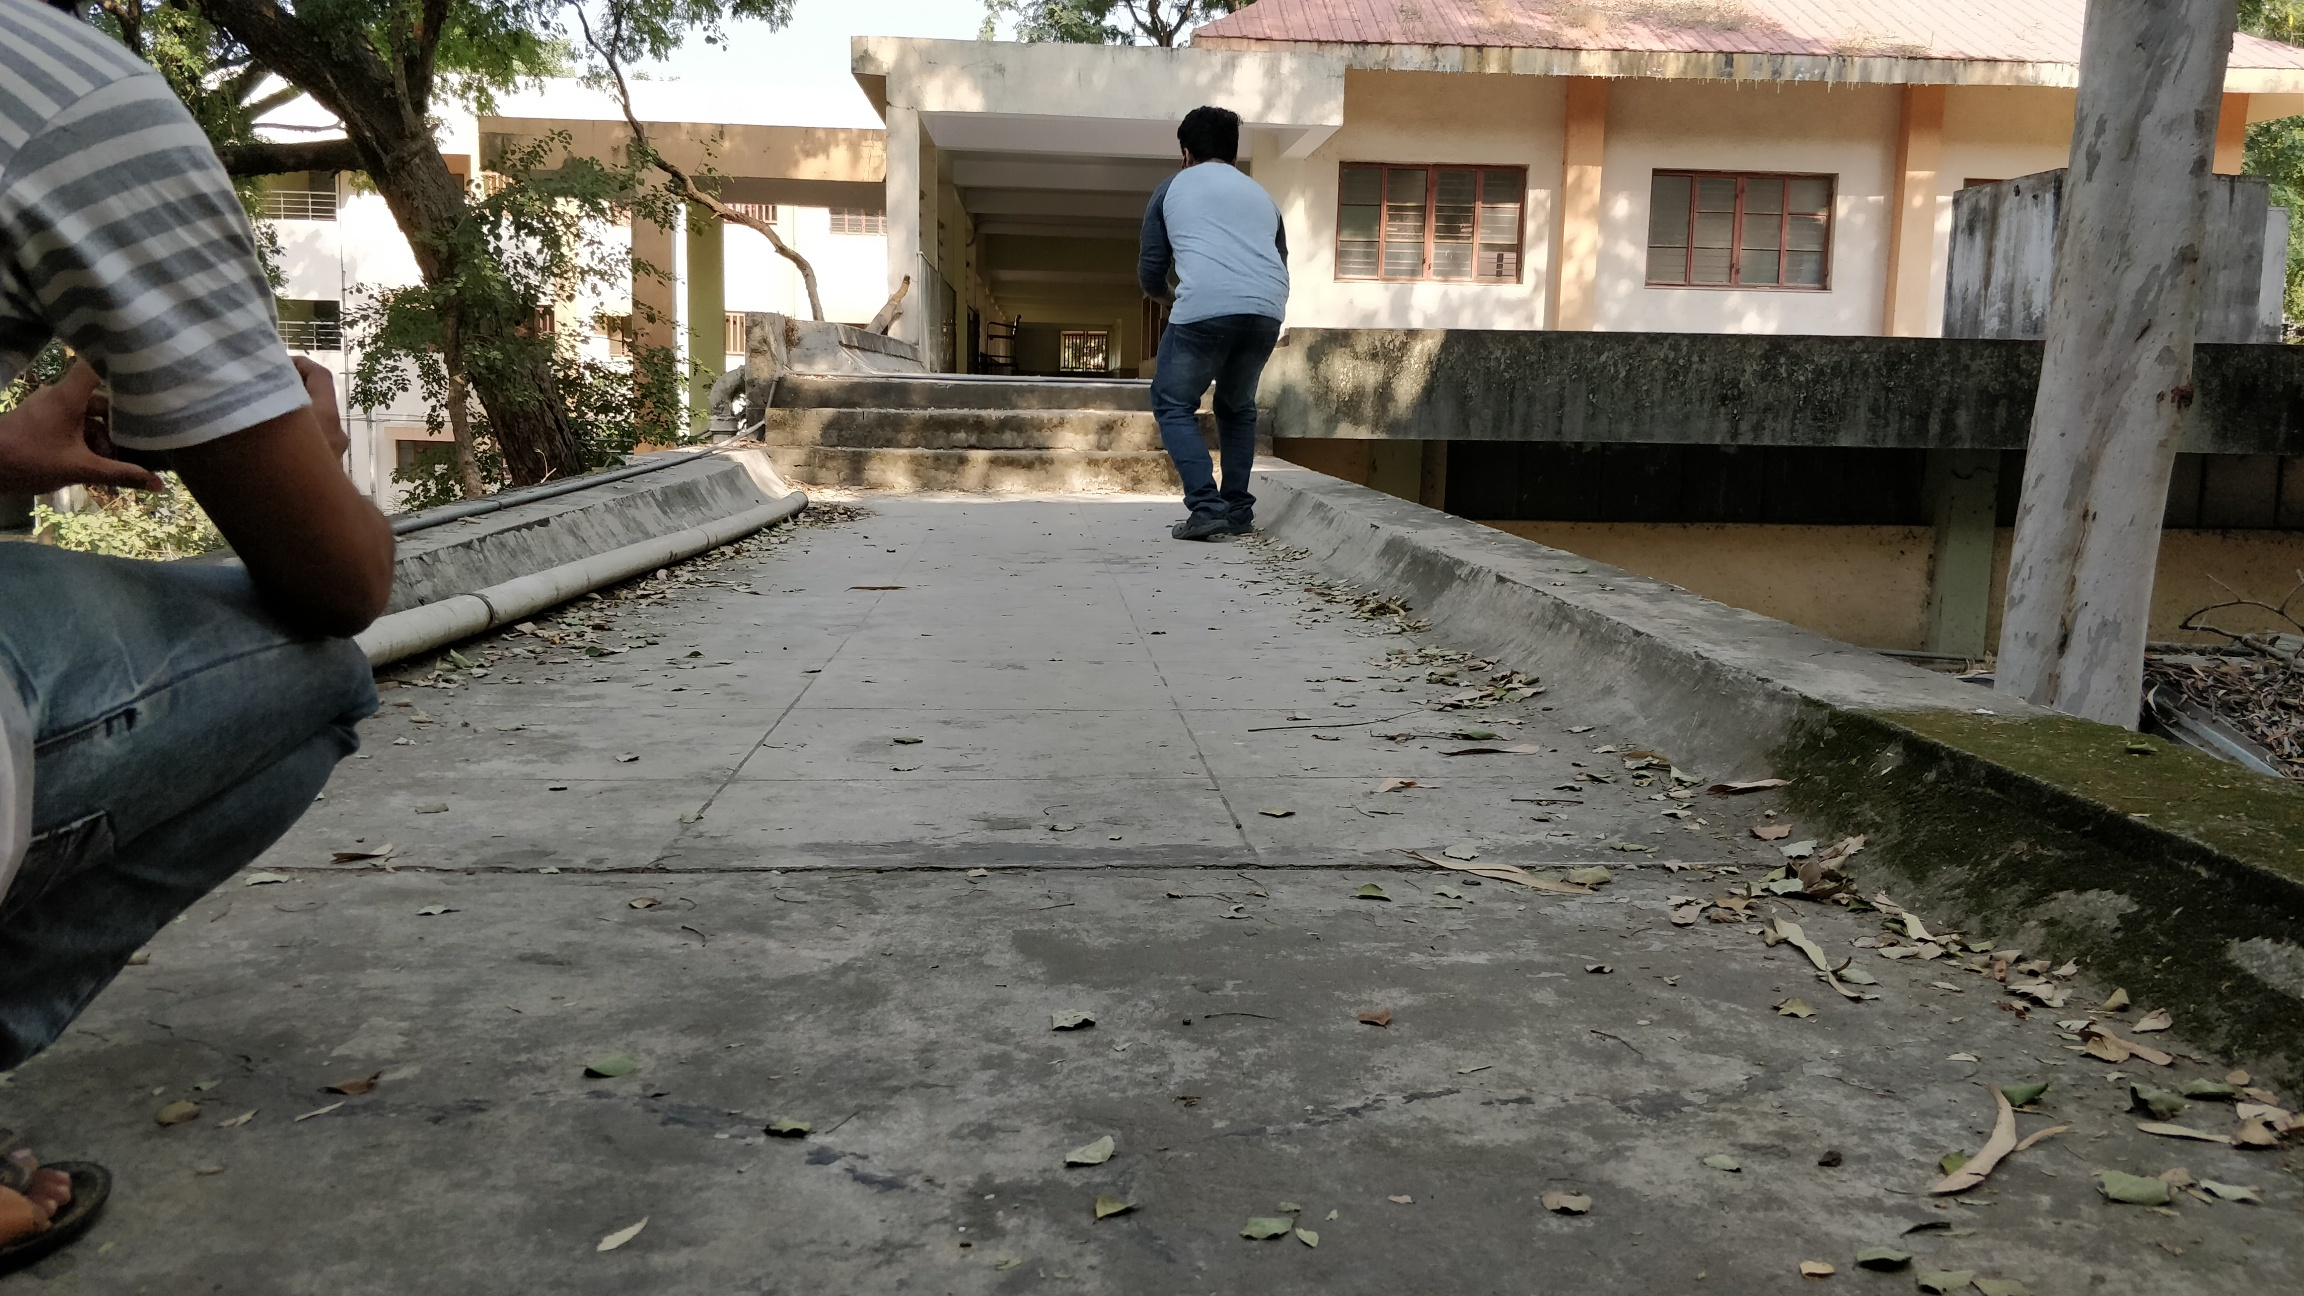stairs_up: (745, 385, 1154, 506)
